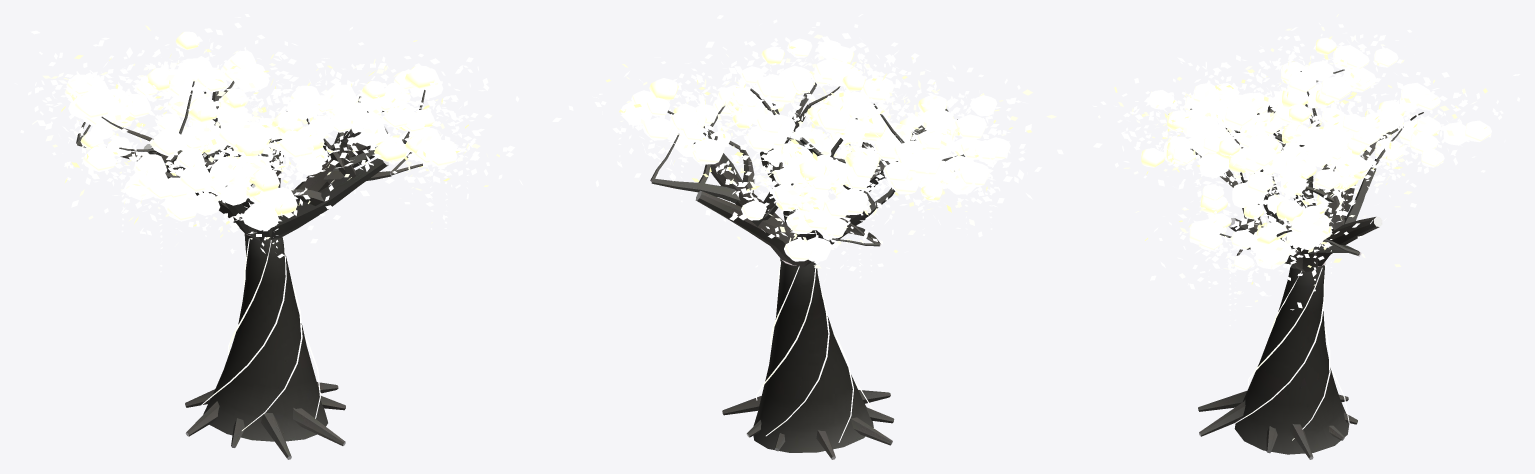
The model's file is holy_tree.glb.
The picture shows the model from 3 angles, left to right: view 1: azimuth 30°, elevation 25°; view 2: azimuth 150°, elevation 25°; view 3: azimuth 270°, elevation 25°; orthographic projection. The views are drawn at different scales.
Parts seen in each view (by area): view 1: glow, main; view 2: glow, main; view 3: glow, main.
Part boxes in pixels (<box>): glow: <box>14,14,522,430</box>; main: <box>76,81,425,459</box>; glow: <box>552,14,1063,442</box>; main: <box>650,82,964,459</box>; glow: <box>1092,14,1519,440</box>; main: <box>1190,69,1424,459</box>.
Size of the model in its own units: 37.23 by 30.1 by 31.3.
Materials: 4 (1 with a texture image).
